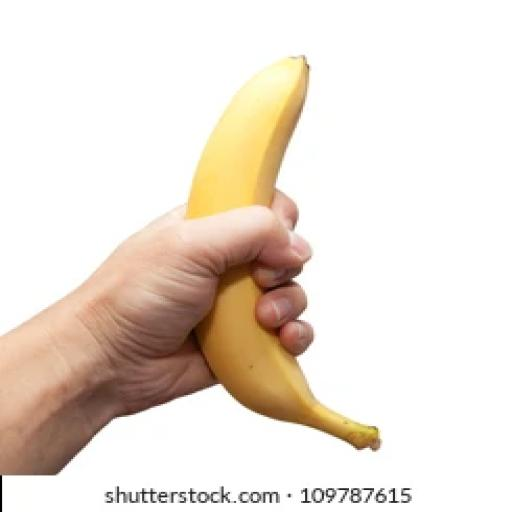banana: (197, 266, 380, 449)
